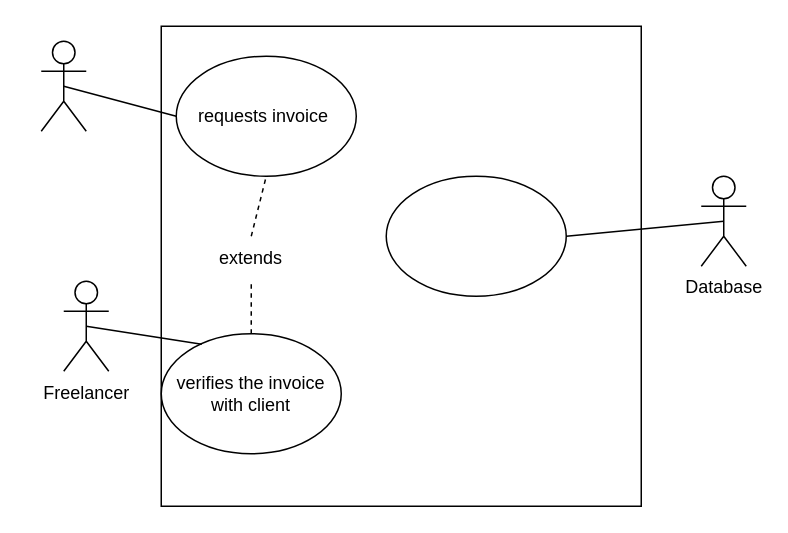
The diagram is 788 pixels wide and 533 high, and some of its shapes have lost their labels. The shapes that lost their labels are listed below. From the top down, each one's centre as x and y in pixels, then its label:
the point at 63,85: Client
the point at 475,235: Processes the information
